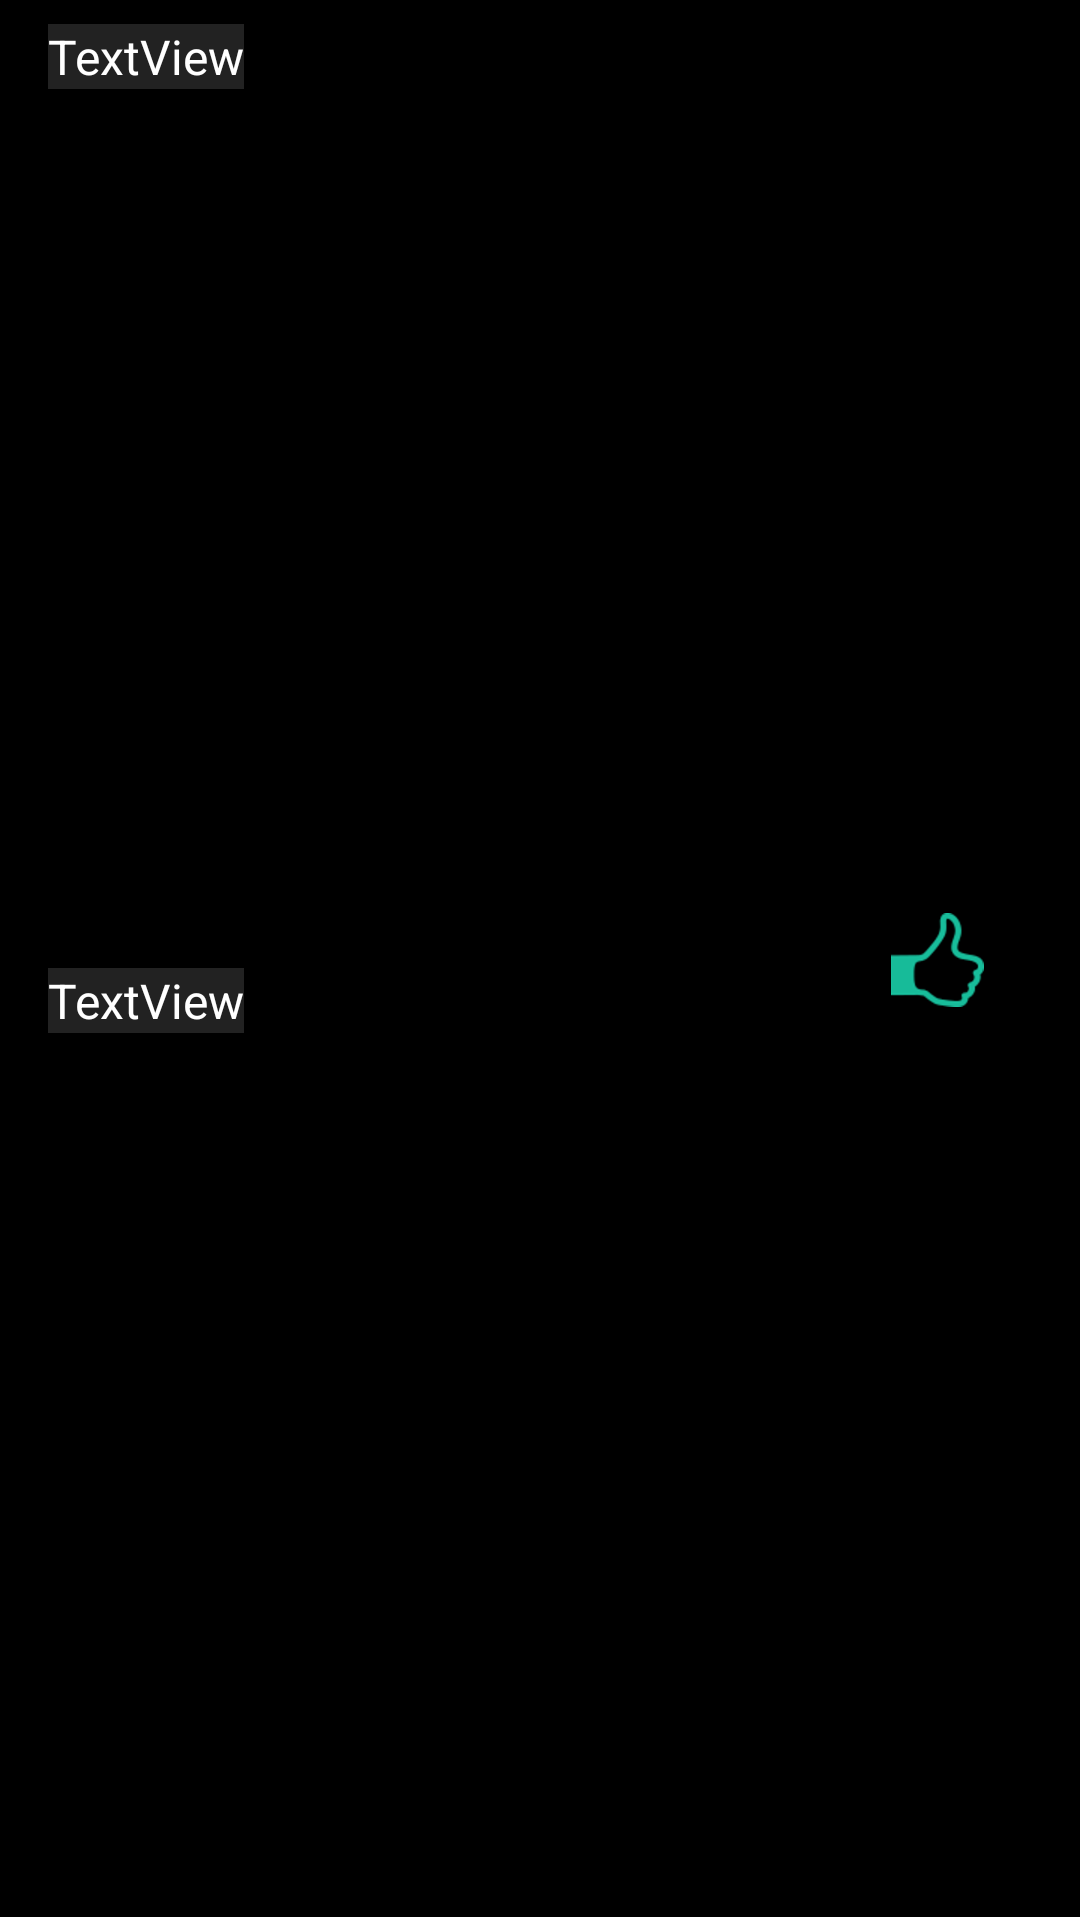

Screen size 1080px×1920px. Icon name, then its center in pixels as (x,y):
like: (937,960)
